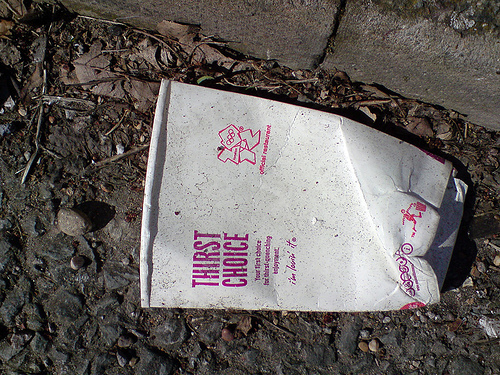litter: (138, 74, 465, 312)
